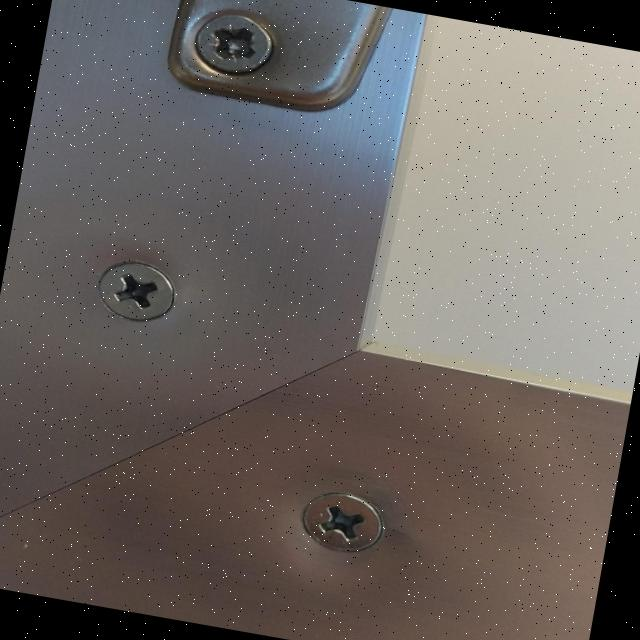Phillips: (290, 485, 394, 561), (95, 256, 186, 328)
Pozidriv: (192, 7, 280, 84)
